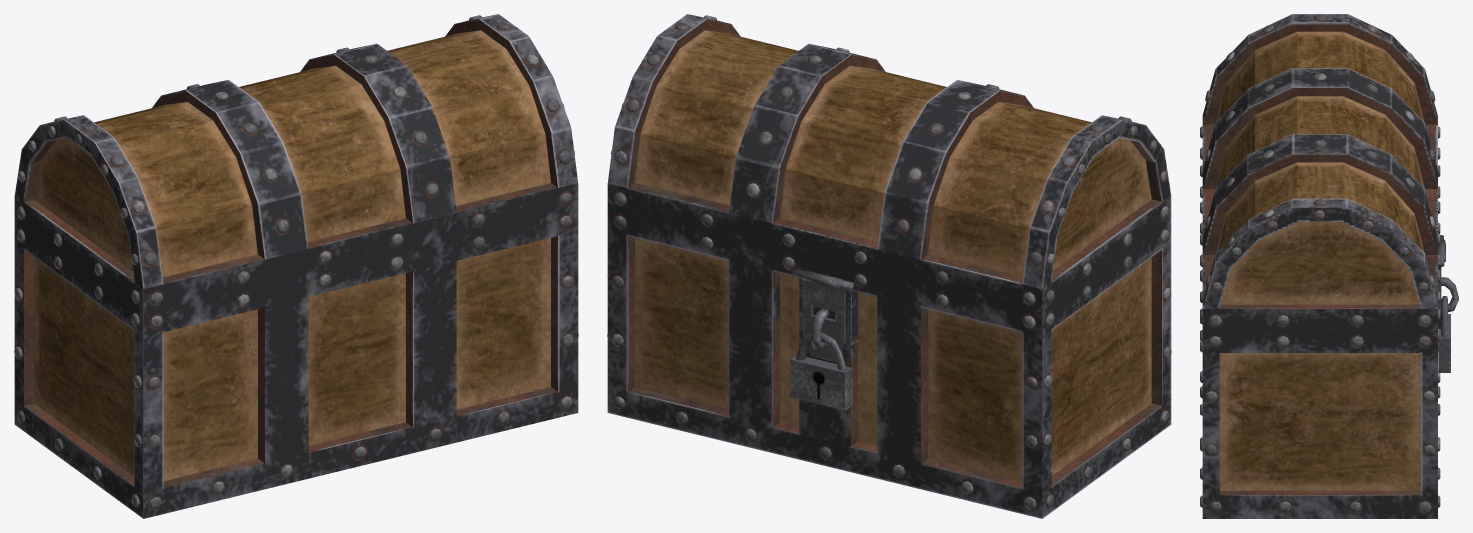
File: Chest.gltf
3 views of the same model, side by side, from view 1: azimuth 30°, elevation 25°; view 2: azimuth 150°, elevation 25°; view 3: azimuth 270°, elevation 25° (orthographic). The views are drawn at different scales.
Parts seen in each view (by area): view 1: Chest; view 2: Chest; view 3: Chest.
Boxes of the visible parts, x1,y1,x2,y2 form: Chest: (14, 14, 578, 518); Chest: (607, 14, 1171, 518); Chest: (1200, 14, 1458, 518).
Bounding box in the file's own units: 0.4443 × 0.3313 × 0.2479.
Materials: 1 (1 with a texture image).
